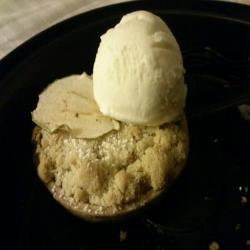apple_pie: (22, 72, 203, 224)
icecream: (90, 9, 195, 133)
